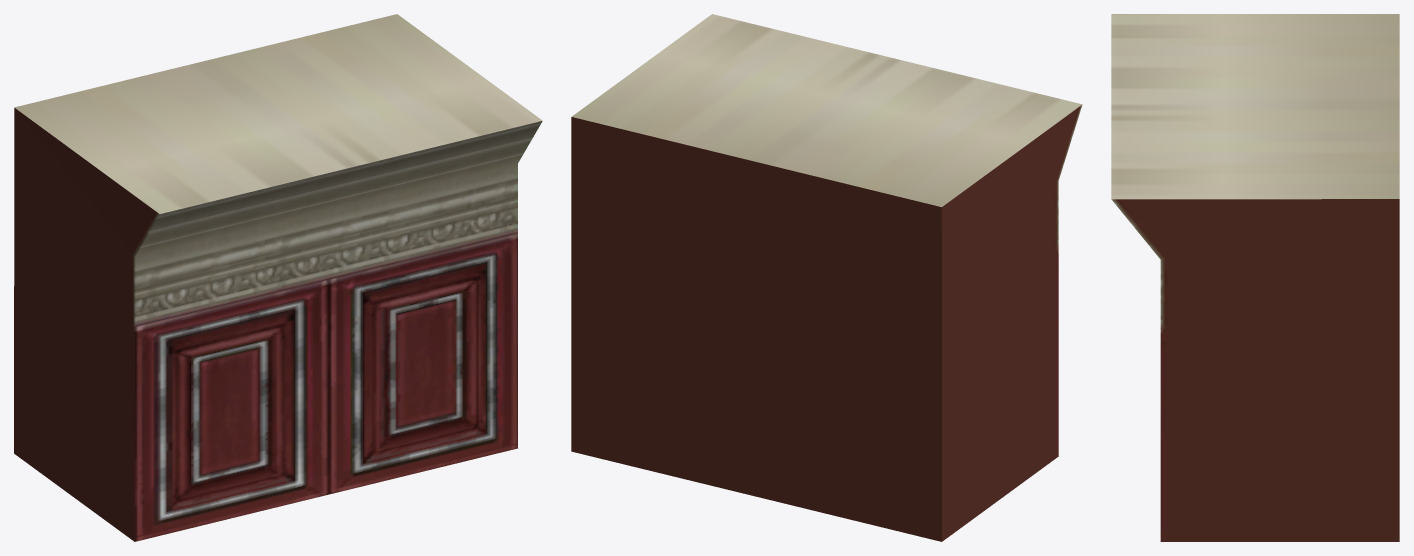
File: furni_0201125_02.FBX
The picture shows the model from 3 angles, left to right: view 1: azimuth 30°, elevation 25°; view 2: azimuth 150°, elevation 25°; view 3: azimuth 270°, elevation 25°; orthographic projection. The views are drawn at different scales.
Parts seen in each view (by area): view 1: furni_0201125_02; view 2: furni_0201125_02; view 3: furni_0201125_02.
Boxes of the visible parts, x1,y1,x2,y2 form: furni_0201125_02: (14, 14, 542, 541); furni_0201125_02: (571, 14, 1082, 541); furni_0201125_02: (1111, 14, 1399, 541).
Bounding box in the file's own units: 81.43 × 70.29 × 53.58.
Materials: 1 (1 with a texture image).
